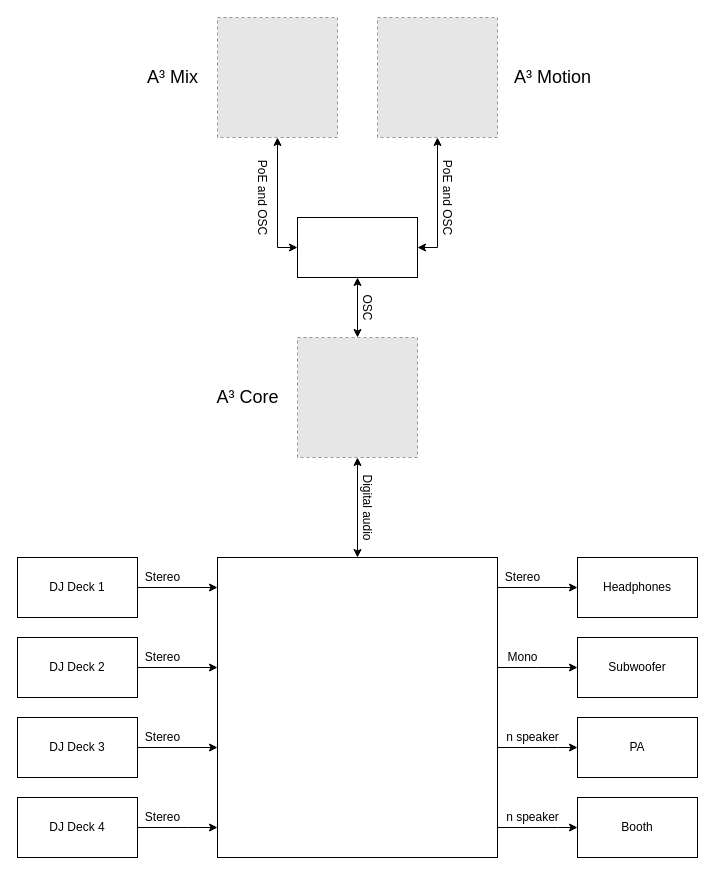
This 715x875 diagram has some shape labels left out. Grey dashed boxes stand in for pictures. The shapes that lost their labels are listed below. From the top down, each one's centre as x and y in pixels, then its label:
the point at 357,247: PoE Ethernet switch
the point at 357,707: Audiohardware 8 in n out
